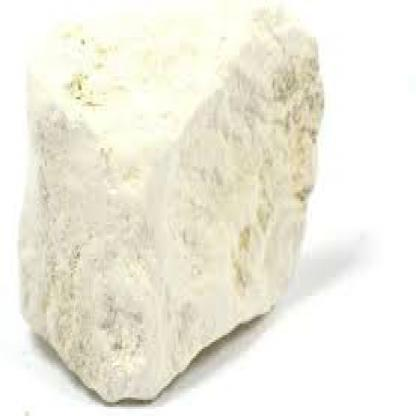Sedimentary_Chalk: (8, 7, 327, 395)
